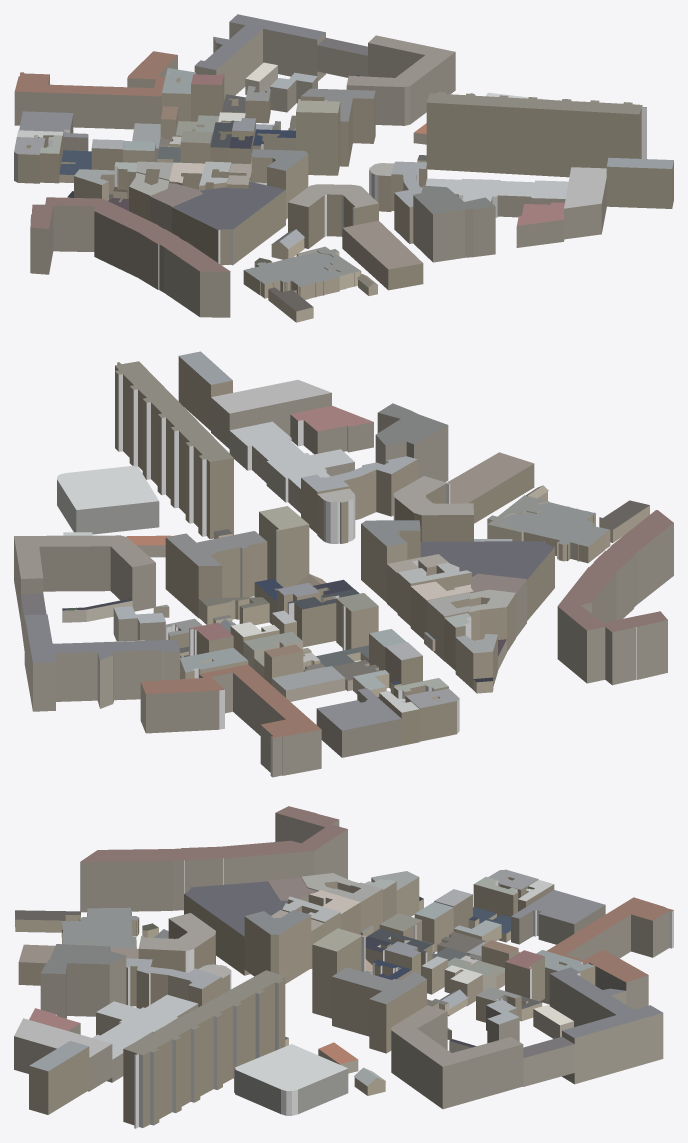
The picture shows the model from 3 angles, top to bottom: view 1: azimuth 30°, elevation 25°; view 2: azimuth 150°, elevation 25°; view 3: azimuth 270°, elevation 25°; orthographic projection. The views are drawn at different scales.
Visible parts, largest first — view 1: tuile; view 2: tuile; view 3: tuile.
Boxes of the visible parts, bbox=[...] form: tuile: bbox=[14, 14, 673, 322]; tuile: bbox=[14, 351, 673, 777]; tuile: bbox=[14, 806, 673, 1128].
Bounding box in the file's own units: 296 × 44.71 × 283.
